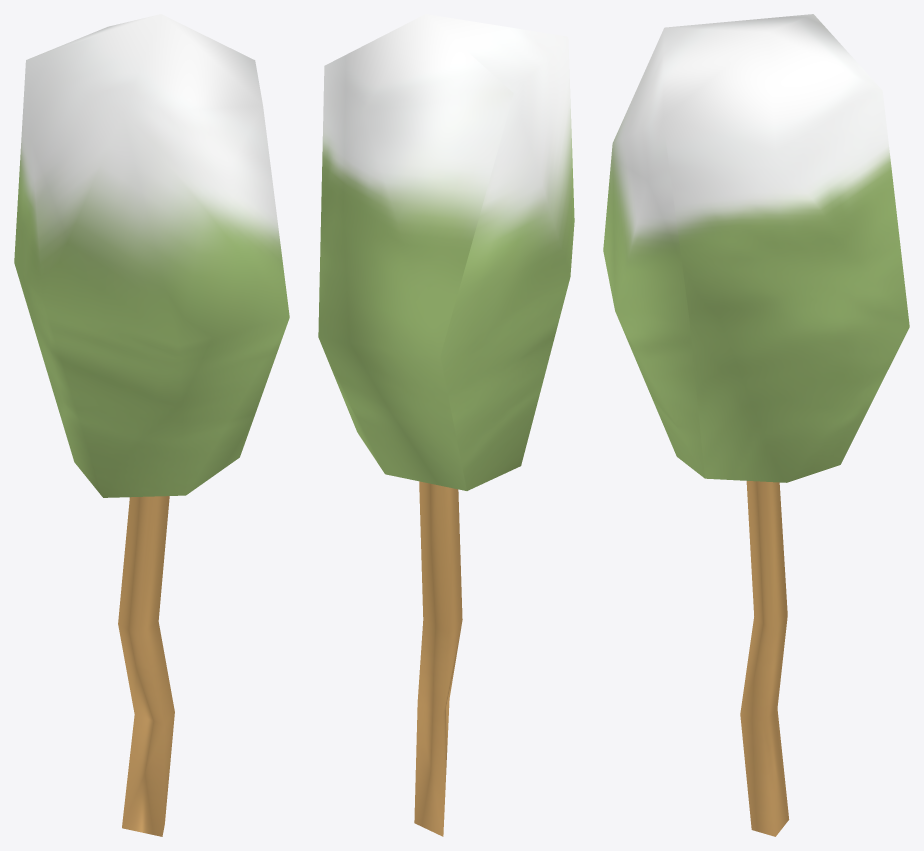
3 renders of one model, left to right at view 1: azimuth 30°, elevation 25°; view 2: azimuth 150°, elevation 25°; view 3: azimuth 270°, elevation 25°, orthographic.
Parts seen in each view (by area): view 1: wLODLaza; view 2: wLODLaza; view 3: wLODLaza.
Part boxes in pixels (x1,y1,x2,y2): wLODLaza: (14, 14, 289, 836); wLODLaza: (318, 14, 574, 836); wLODLaza: (603, 14, 909, 836).
Size of the model in its own units: 2.23 by 7.53 by 2.61.
1 material, 1 textured.
